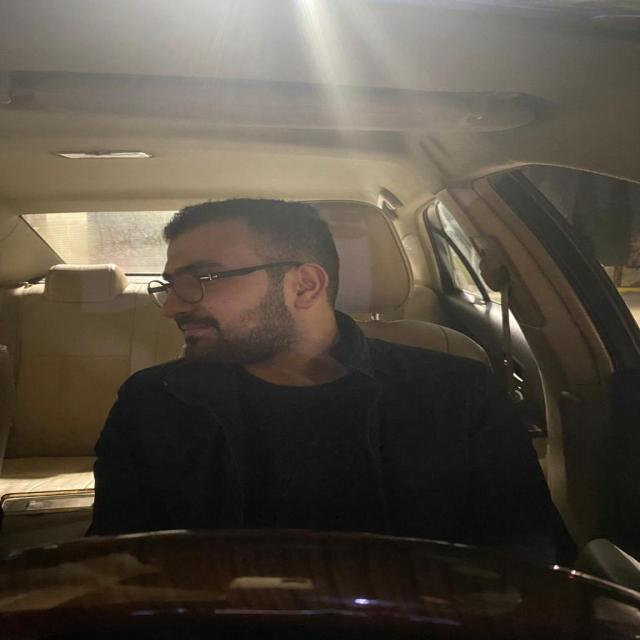LeftRight: (146, 192, 344, 370)
